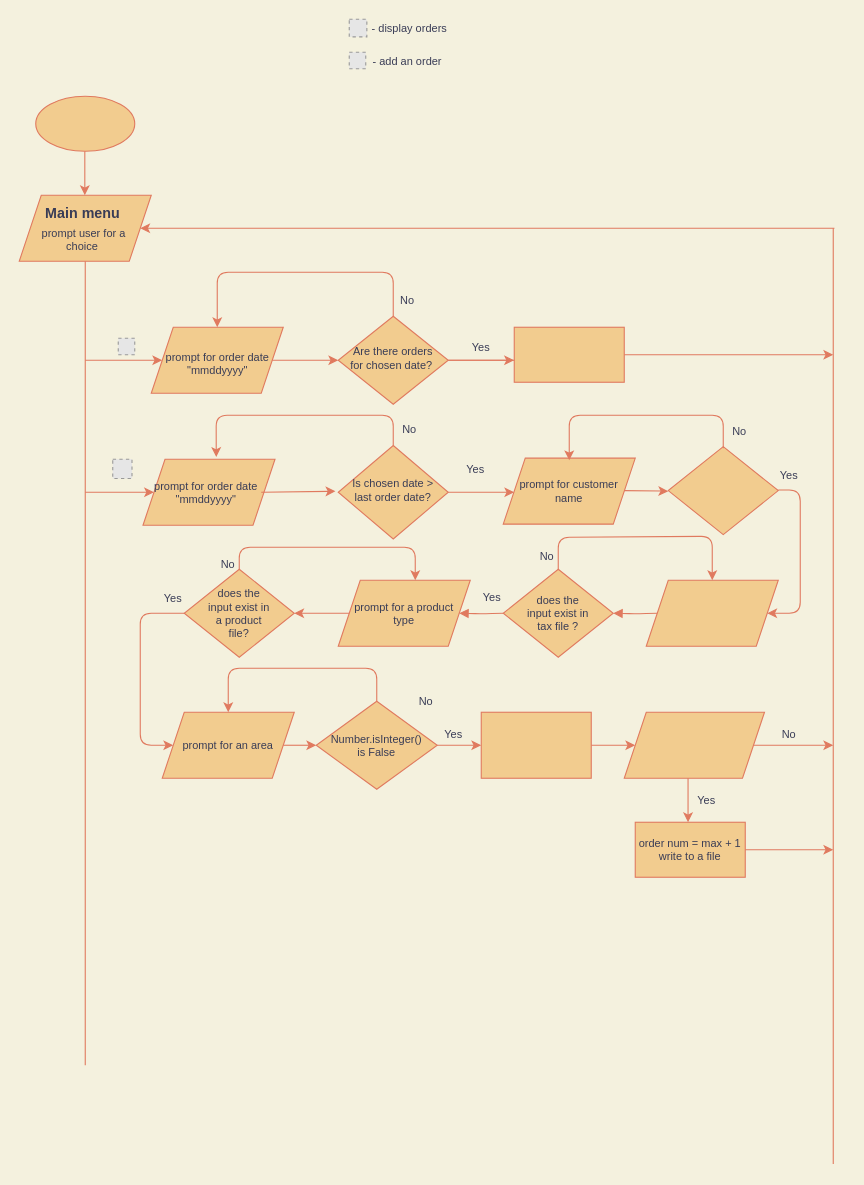
Some shapes in this 864 by 1185 pixel diagram are drawn without their labels. Grey dashed boxes stand in for pictures. The shapes that lost their labels are listed below. From the top down, each one's centre as x and y in pixels, then its label:
the point at 85,123: START
the point at 568,354: display orders for a chosen date
the point at 722,490: name!=" ", char in [a-z][0-9][",","."]
the point at 711,612: prompt for state
the point at 535,744: calculate tax rate, area, cost per sqft, etc. Display the result of calculations
the point at 694,744: ask user if they agree to place an order, y/n
